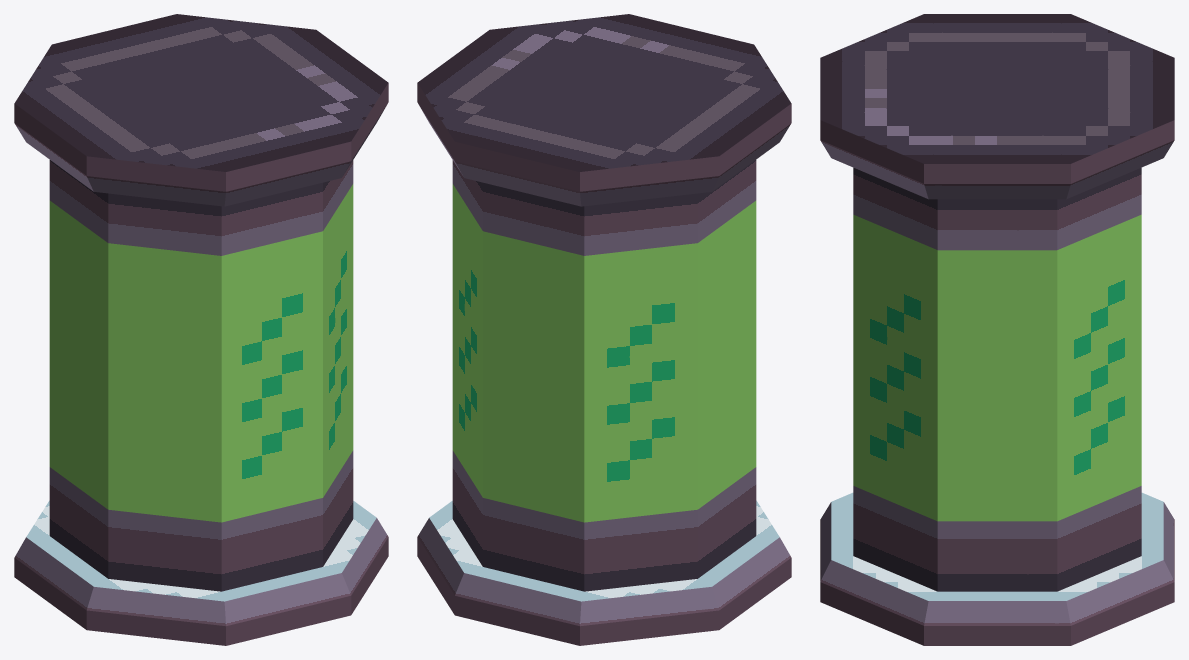
3 views of the same model, side by side, from view 1: azimuth 30°, elevation 25°; view 2: azimuth 150°, elevation 25°; view 3: azimuth 270°, elevation 25° (orthographic).
Parts seen in each view (by area): view 1: cylinder_selection, Top, Bottom; view 2: cylinder_selection, Top, Bottom; view 3: cylinder_selection, Top, Bottom.
Part boxes in pixels (left/top/right/bottom): cylinder_selection: left=49, top=184, right=353, bottom=522; Top: left=14, top=14, right=388, bottom=255; Bottom: left=14, top=450, right=388, bottom=645; cylinder_selection: left=452, top=184, right=756, bottom=522; Top: left=417, top=14, right=791, bottom=255; Bottom: left=417, top=450, right=791, bottom=645; cylinder_selection: left=853, top=214, right=1141, bottom=521; Top: left=820, top=14, right=1174, bottom=250; Bottom: left=820, top=486, right=1174, bottom=645.
Size of the model in its own units: 1 by 1.5 by 1.
1 material, 1 textured.
